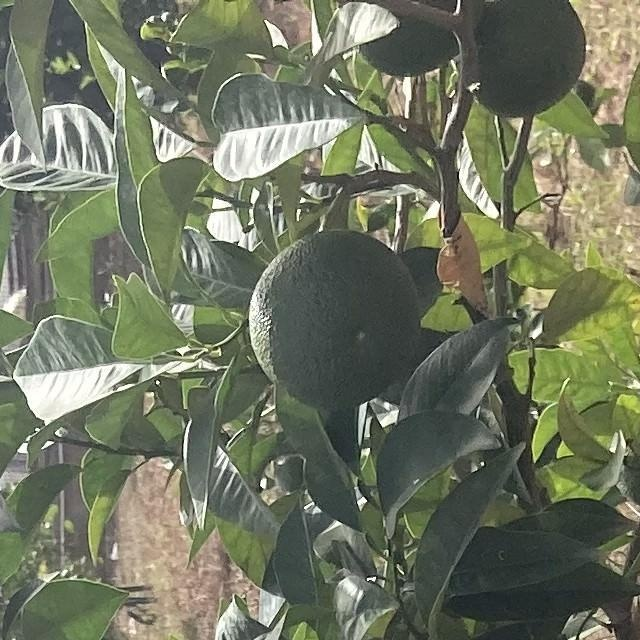orange: (237, 224, 433, 414), (451, 0, 593, 124), (332, 0, 466, 84), (604, 399, 640, 515)
